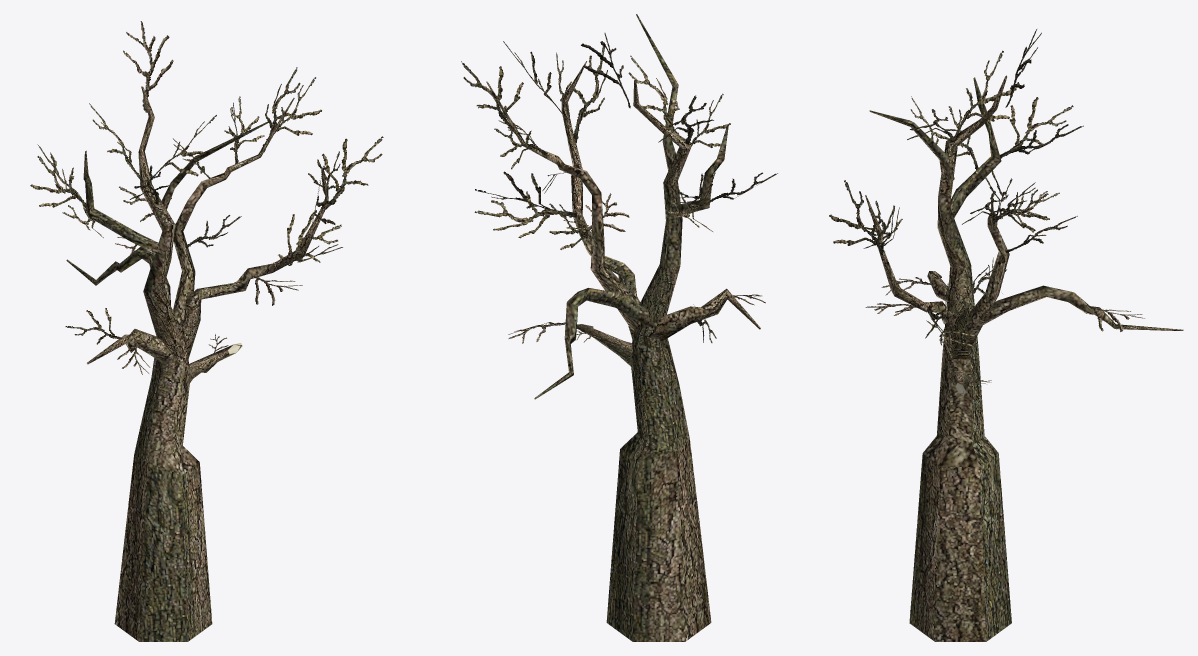
The model's file is roble_seco_f.glb.
3 renders of one model, left to right at view 1: azimuth 30°, elevation 25°; view 2: azimuth 150°, elevation 25°; view 3: azimuth 270°, elevation 25°, orthographic. The views are drawn at different scales.
Visible parts, largest first — view 1: Modelo; view 2: Modelo; view 3: Modelo.
Part boxes in pixels (left/top/right/bottom): Modelo: left=30, top=21, right=383, bottom=641; Modelo: left=461, top=14, right=777, bottom=641; Modelo: left=829, top=29, right=1183, bottom=641.
Bounding box in the file's own units: 5.67 × 10.56 × 5.81.
1 material, 1 textured.
